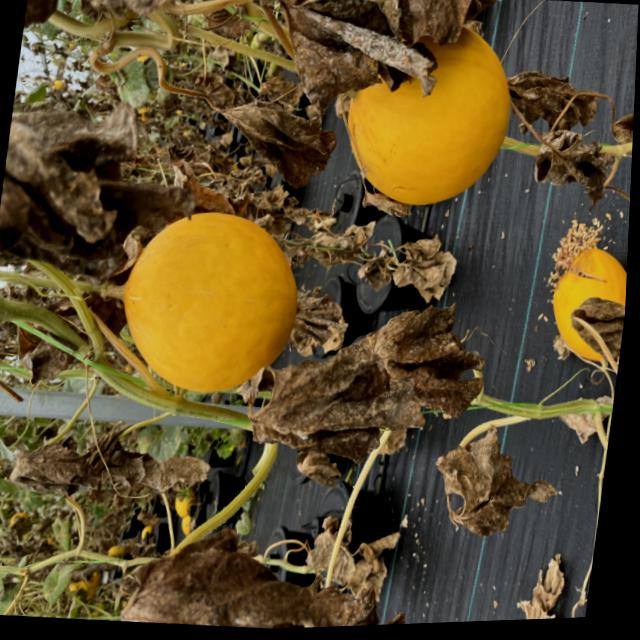bacterial wilt: (253, 278, 491, 475), (255, 0, 451, 118), (425, 420, 575, 555), (202, 87, 342, 197), (497, 61, 614, 138), (524, 126, 609, 221), (5, 430, 103, 510)
